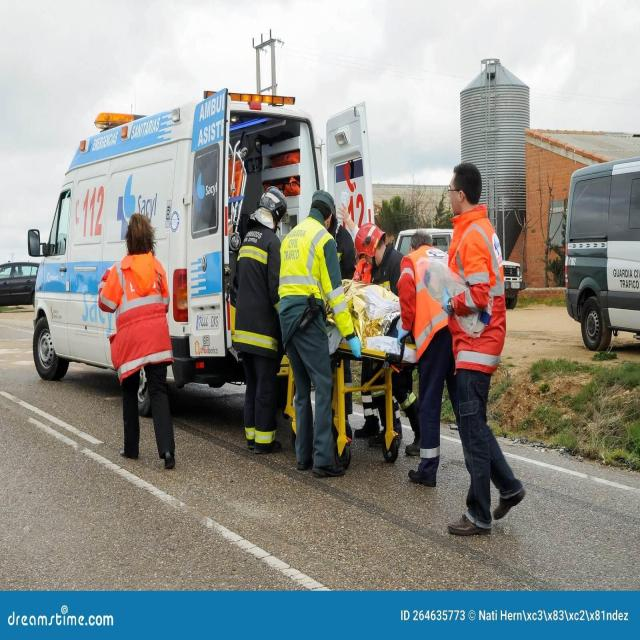emergency: (26, 67, 375, 388)
